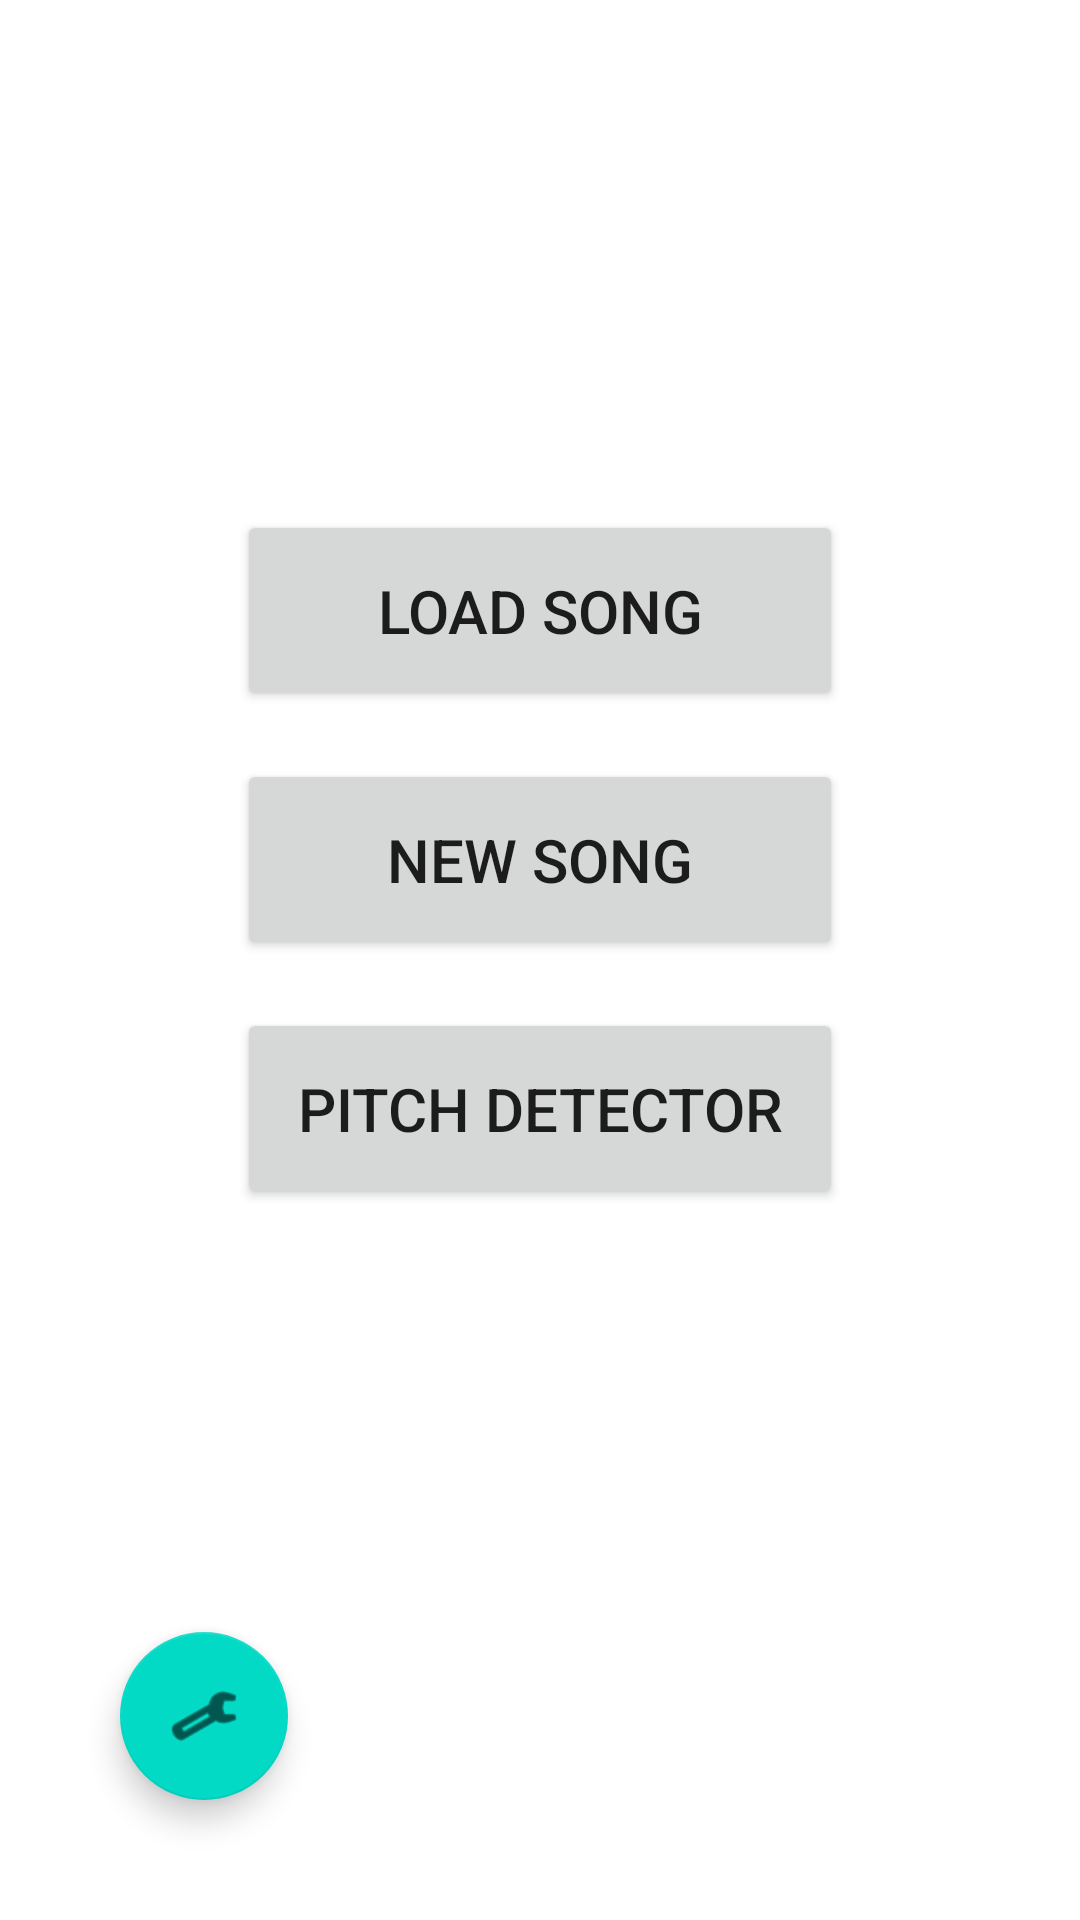

Named icons in this screenshot (1080 × 1920) and their bounding boxes, box(x1, y1, x2, y2):
preferences: box(120, 1632, 288, 1800)
